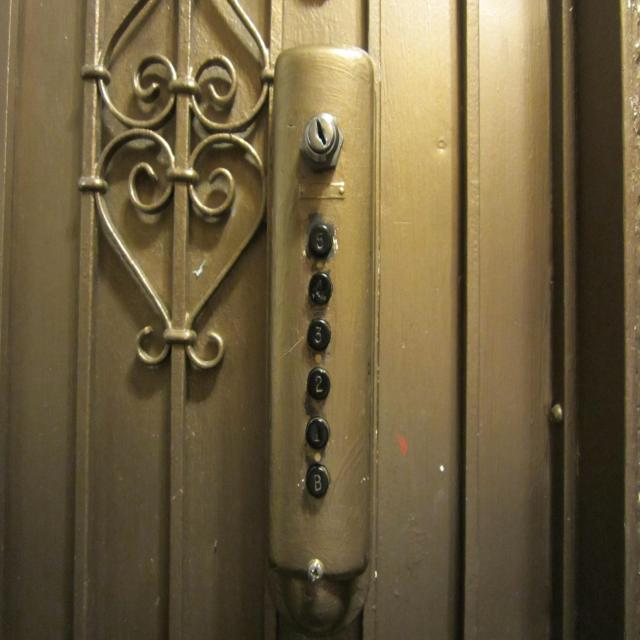1: (302, 413, 332, 451)
2: (303, 364, 333, 402)
3: (303, 315, 333, 353)
4: (304, 270, 334, 307)
5: (305, 222, 335, 260)
B: (302, 461, 332, 499)
keyhole: (298, 106, 344, 170)
